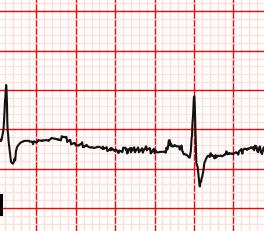ST Depression: (187, 152, 215, 190)
